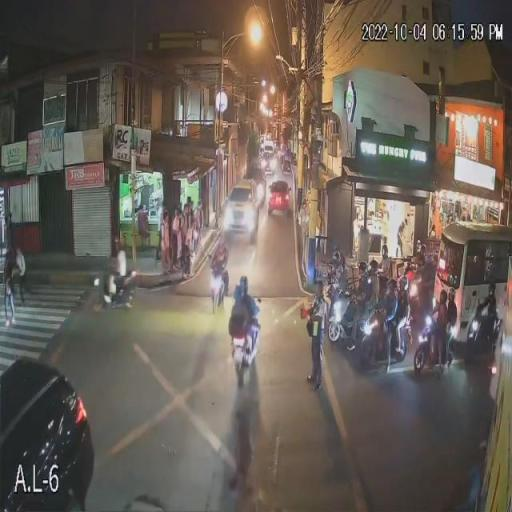helmet: (356, 262, 370, 280), (397, 276, 411, 292), (214, 238, 228, 254), (332, 252, 345, 268), (381, 244, 394, 260), (114, 236, 126, 252), (436, 290, 447, 307), (367, 261, 378, 277), (483, 283, 495, 297), (448, 285, 456, 305), (417, 278, 428, 290), (238, 276, 248, 288), (385, 278, 395, 290)
motorcycle: (356, 302, 394, 368), (228, 310, 261, 374), (410, 316, 444, 378), (466, 314, 504, 364), (382, 309, 414, 368), (325, 286, 356, 344), (93, 270, 137, 310), (208, 264, 230, 314)
rider: (420, 286, 447, 364), (228, 276, 261, 339), (102, 241, 130, 304), (380, 278, 406, 344), (470, 288, 501, 334), (441, 286, 459, 364), (364, 262, 387, 318), (330, 252, 352, 303), (210, 234, 230, 285), (352, 254, 366, 324), (375, 243, 392, 281)
